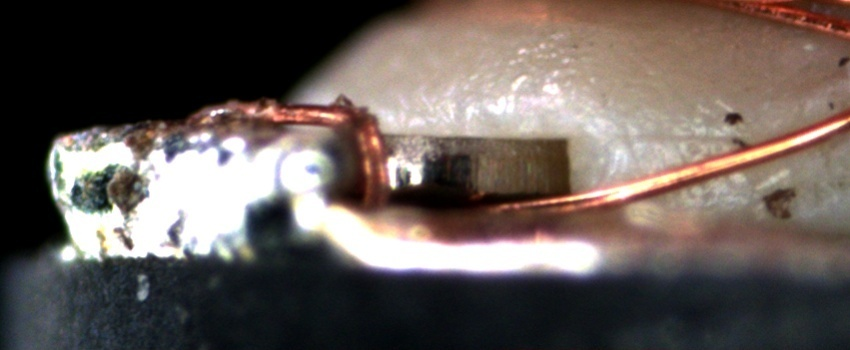DL: (619, 107, 744, 164)
TE: (194, 91, 397, 215)
